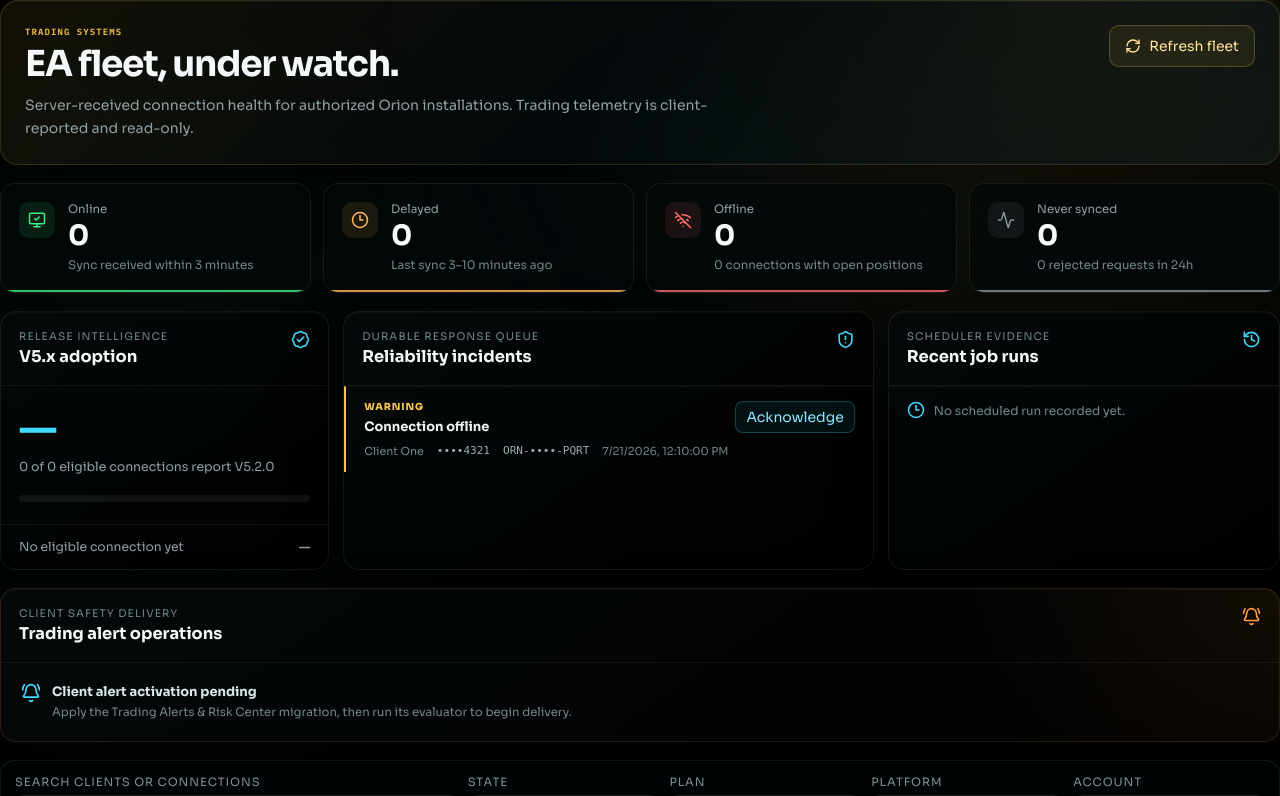
Scenario: EA fleet monitor › acknowledges an incident with the exact action and refreshes authoritative state
Step 1. Click the button "Acknowledge" → (795, 417), box [735,401,855,433]
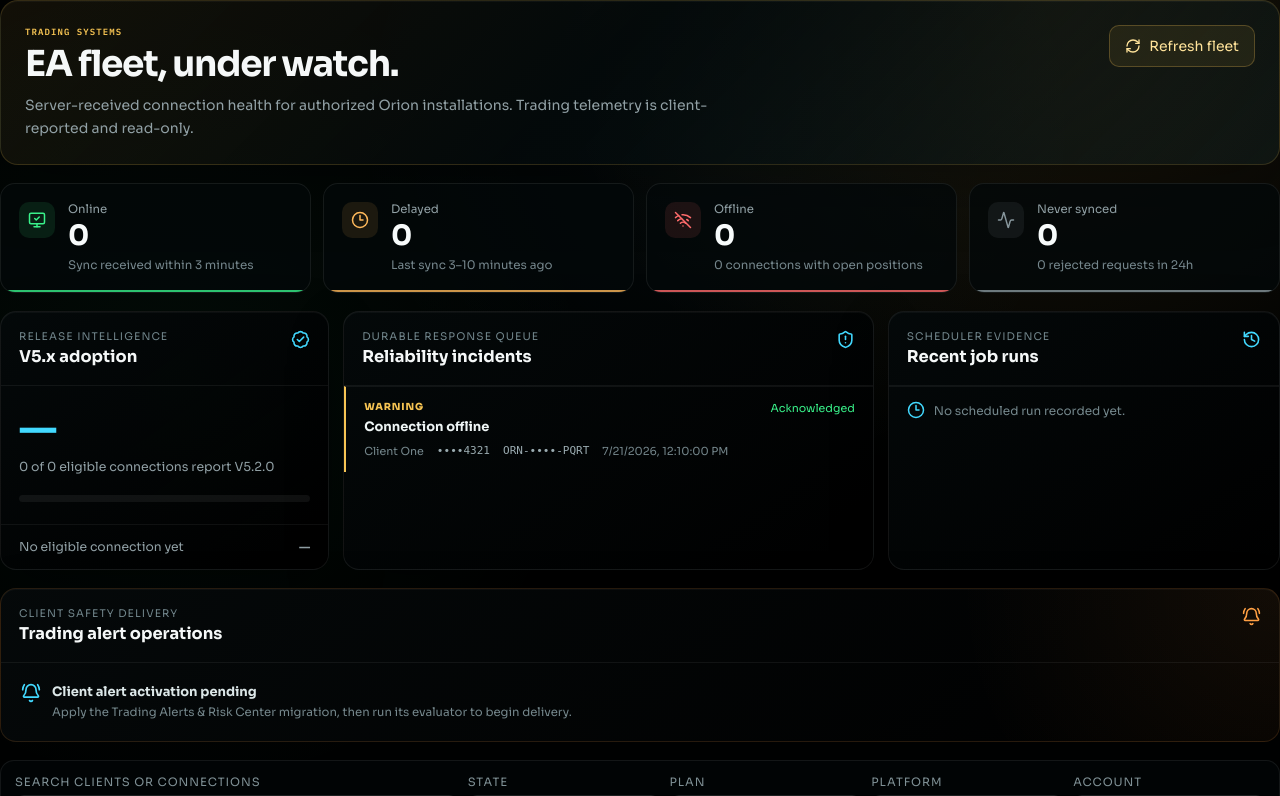
Expected: the text named "Incident status: Acknowledged" is shown, [770,401,855,415]
